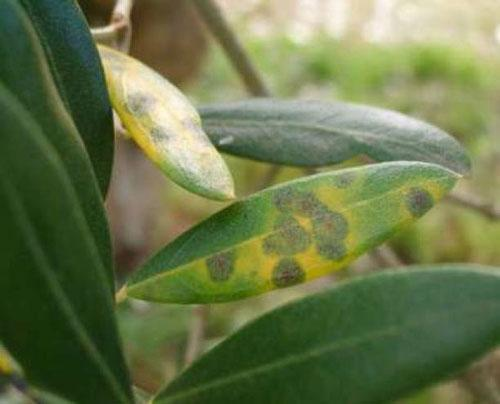OlivePeacockSpot: (126, 162, 457, 309), (98, 47, 237, 201)
